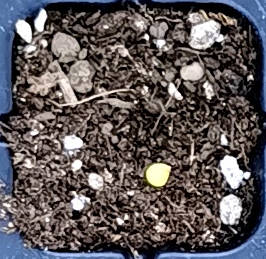chilli seed: (144, 162, 172, 187)
